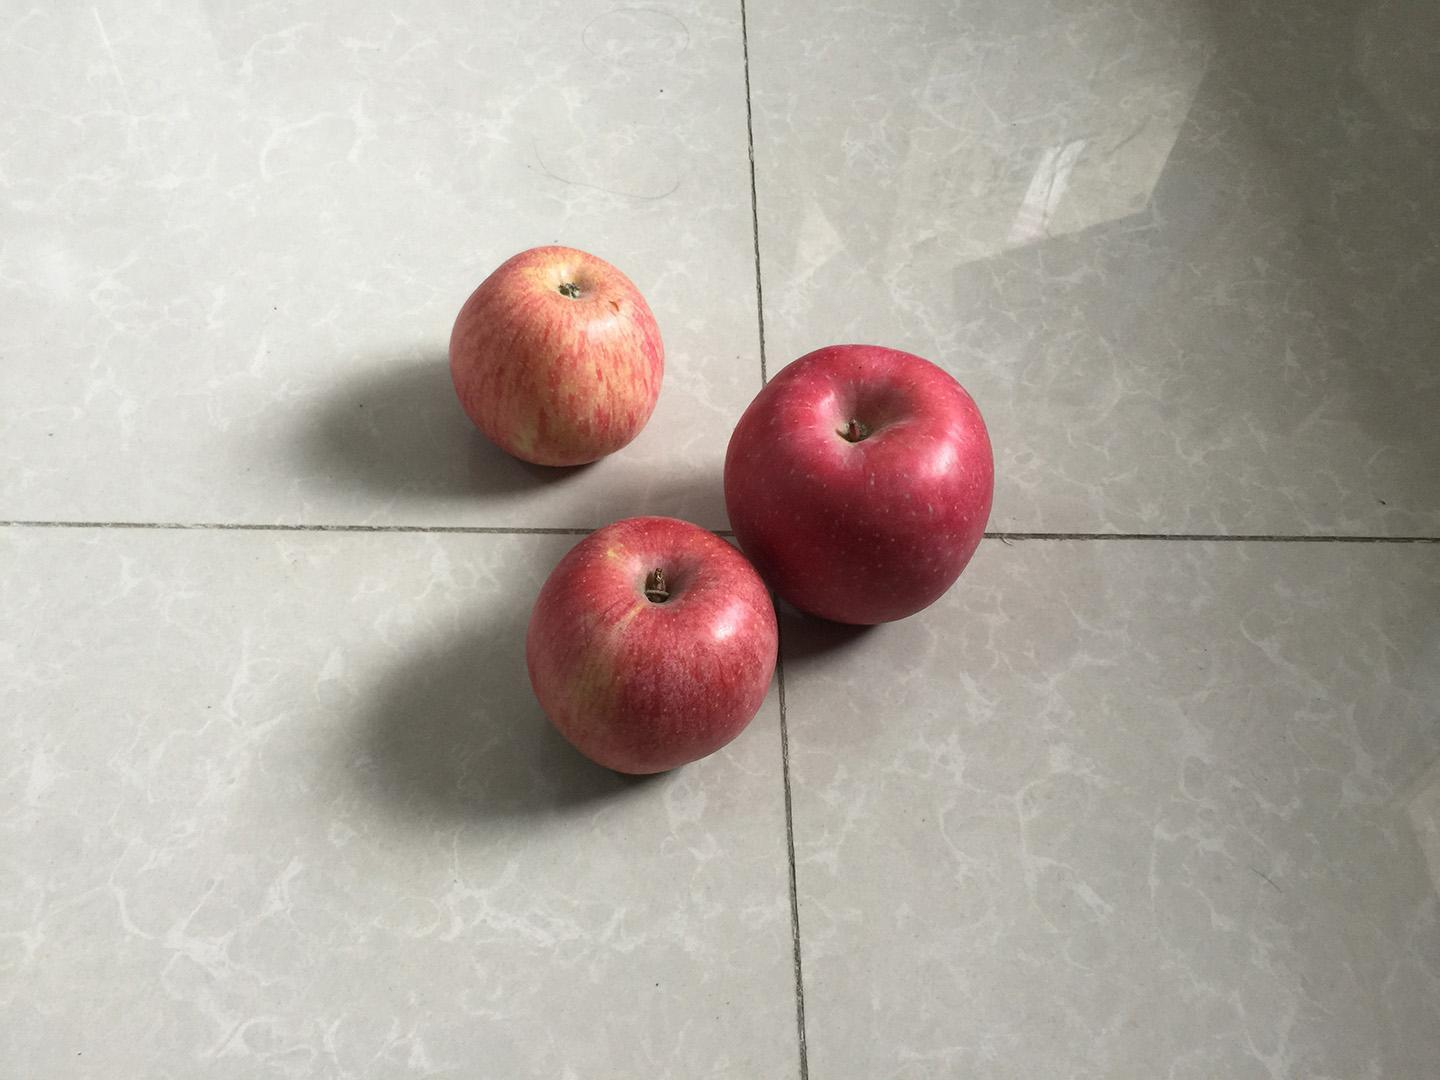apple: (715, 334, 1006, 635), (517, 506, 783, 779), (444, 241, 674, 472)
